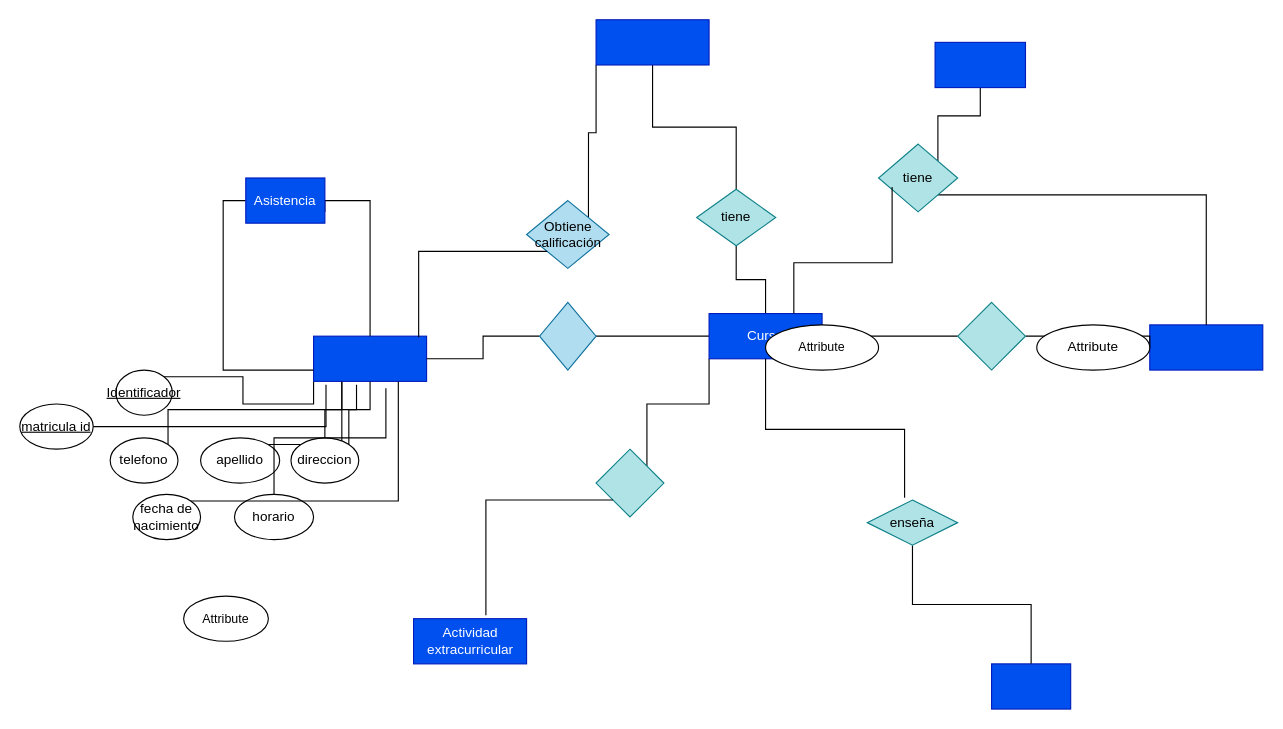
Some shapes in this 1283 by 729 pixel diagram are drawn without their labels. Each missing label, with the centre of its shape:
"Aula" belongs at (1206,347).
"esta matriculado" belongs at (567,335).
"Estudiantes" belongs at (369,358).
"Horarios" belongs at (979,64).
"Materias" belongs at (652,42).
"Profesor" belongs at (1030,686).
"realizar" belongs at (629,482).
"se imparte" belongs at (991,335).
